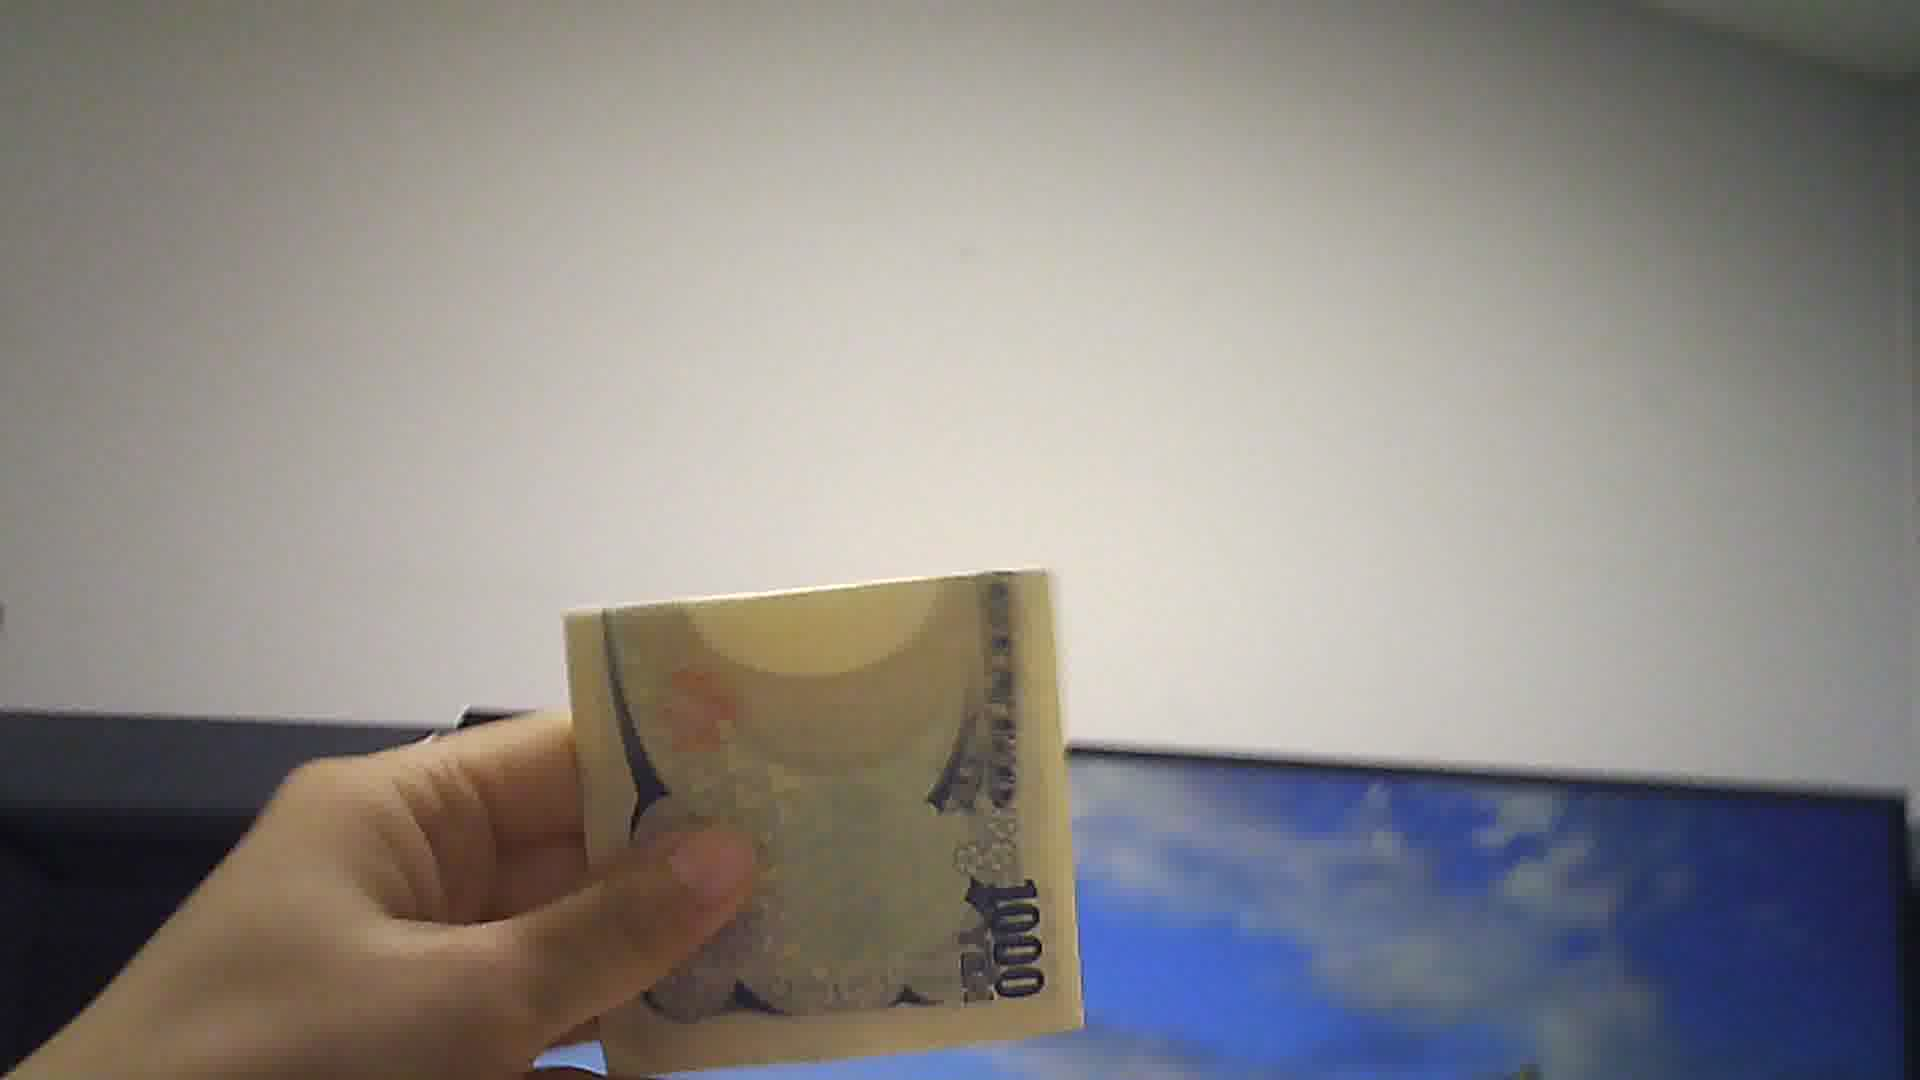1,000 Yen: (556, 562, 1087, 1064)
